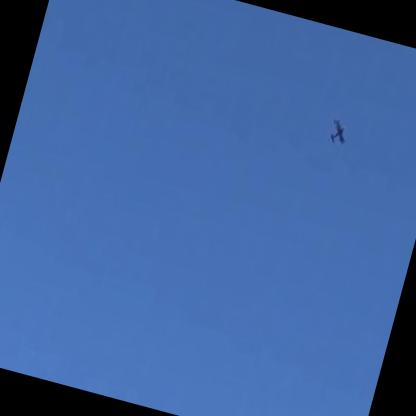plane: (327, 119, 350, 145)
